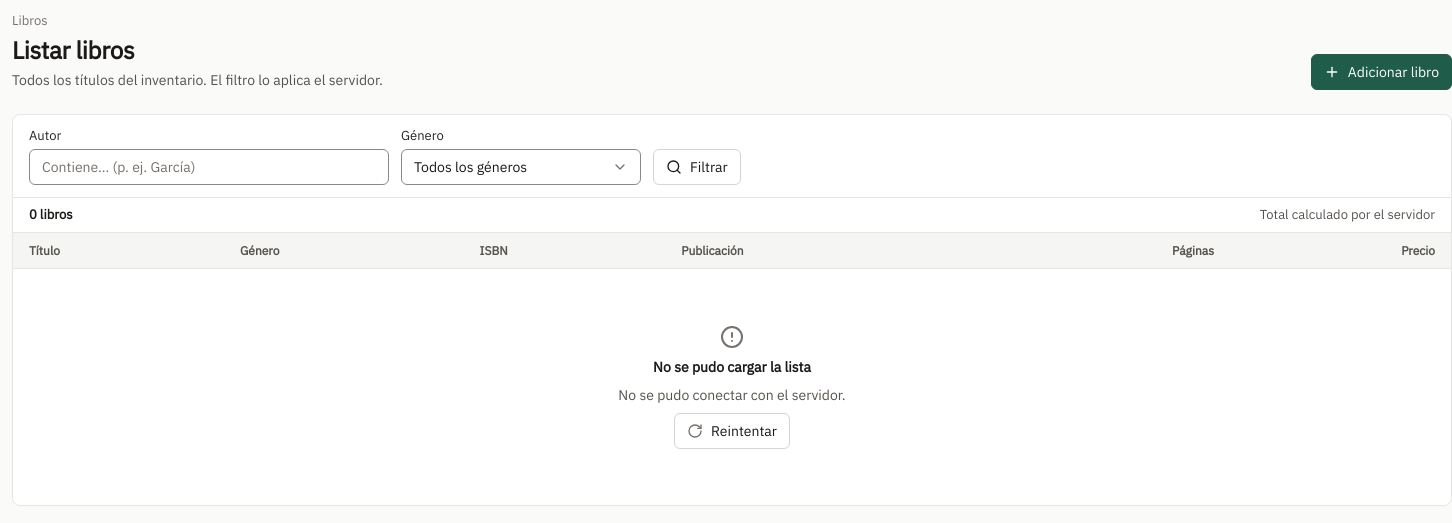
Test: ListarLibros › si falla la carga muestra el error y permite reintentar
Expected: the text "No se pudo cargar la lista" is shown, [653,357,811,377]
Expected: the text "No se pudo conectar con el servidor." is shown, [618,385,846,405]
Click the button "Reintentar". click: (732, 431)
box: [674,413,790,449]
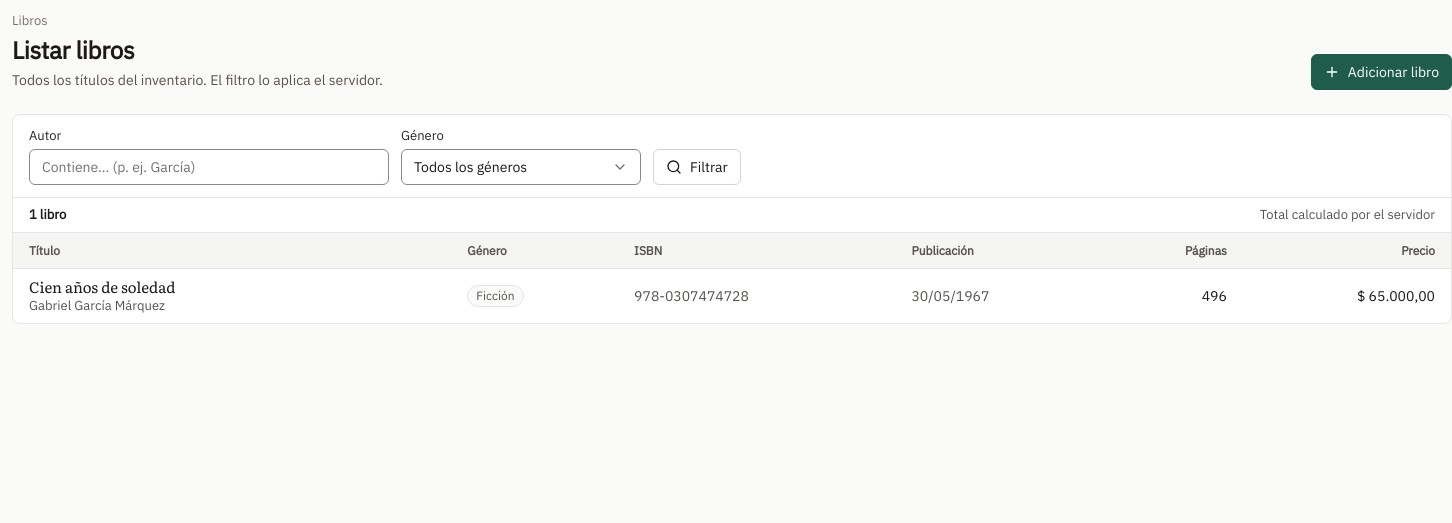
Now the text "Cien años de soledad" is shown, box [29,275,175,298]
